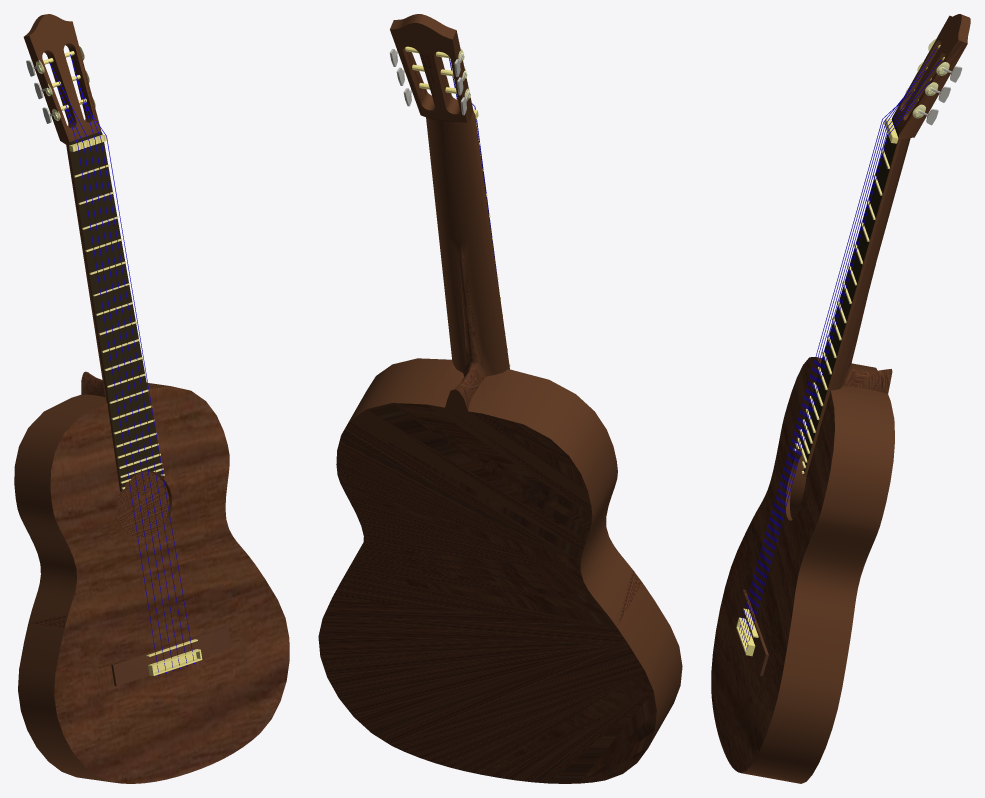
The model's file is acoustic.obj.
3 renders of one model, left to right at view 1: azimuth 30°, elevation 25°; view 2: azimuth 150°, elevation 25°; view 3: azimuth 270°, elevation 25°, orthographic. The views are drawn at different scales.
Parts seen in each view (by area): view 1: Body; view 2: Body; view 3: Body.
Boxes of the visible parts, <box> form: Body: <box>14,14,289,783</box>; Body: <box>318,14,682,783</box>; Body: <box>711,14,970,783</box>.
Size of the model in its own units: 0.8439 by 2.14 by 0.6882.
9 materials, 3 textured.
